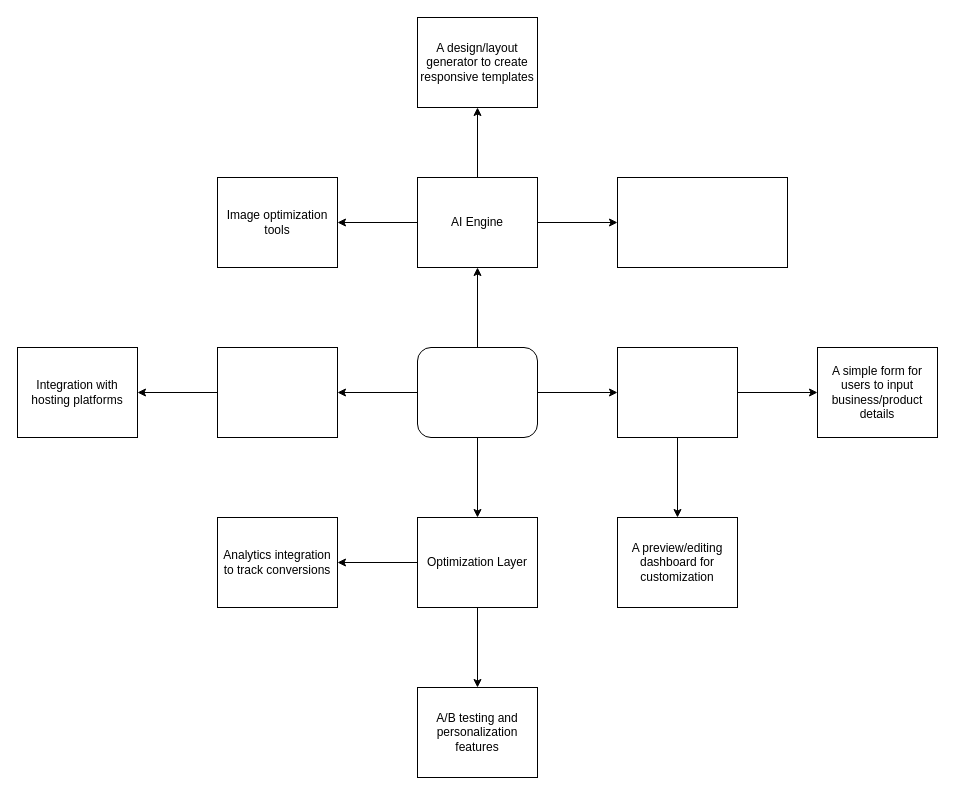
Image size: 955x795. Some labels were removed from this diagram. The box of each missing label's shape, as (x1, y1, x2, y2) in pixels:
A content generation module for text: (616, 176, 788, 268)
Componenti: (416, 346, 538, 438)
Deployment Tools: (216, 346, 338, 438)
User Interface (UI): (616, 346, 738, 438)
